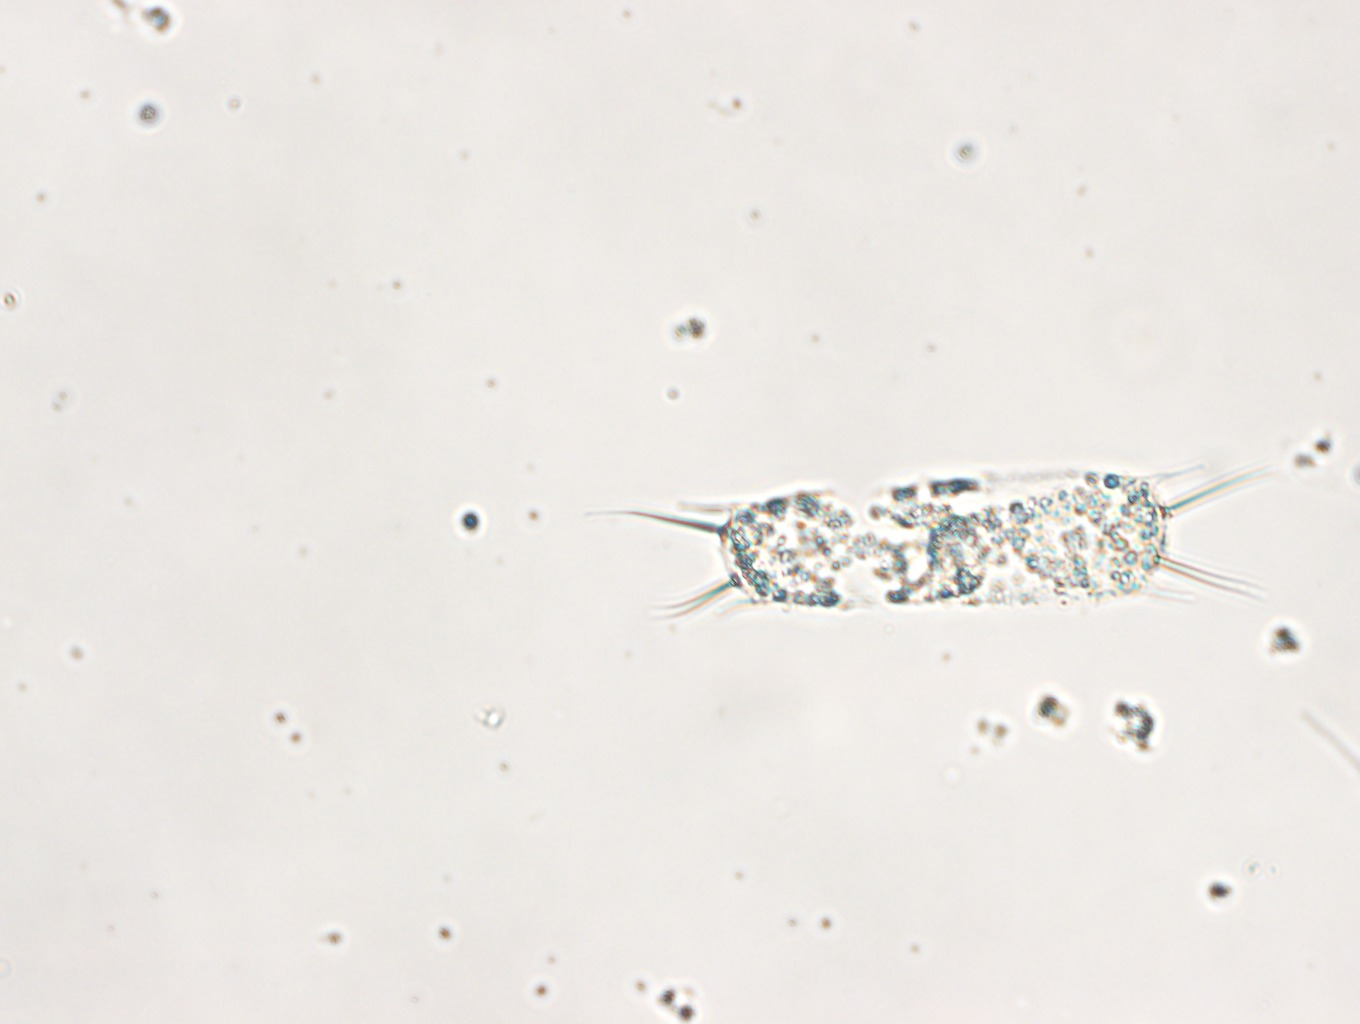biddulphia: (586, 458, 1279, 620)
